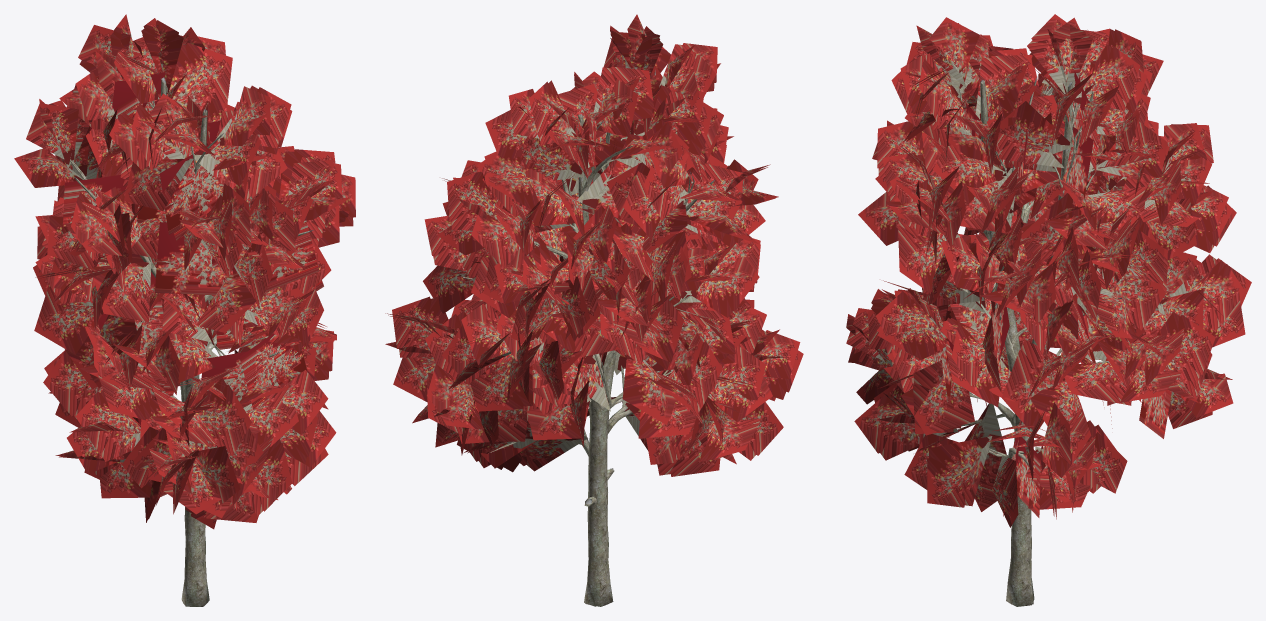
Rendered from tree-size-2-7.glb.
3 views of the same model, side by side, from view 1: azimuth 30°, elevation 25°; view 2: azimuth 150°, elevation 25°; view 3: azimuth 270°, elevation 25° (orthographic).
Parts seen in each view (by area): view 1: Red_Maple_Desktop_Young_Fall_LOD0; view 2: Red_Maple_Desktop_Young_Fall_LOD0; view 3: Red_Maple_Desktop_Young_Fall_LOD0.
Part boxes in pixels (bbox=[...]): Red_Maple_Desktop_Young_Fall_LOD0: bbox=[14, 14, 355, 606]; Red_Maple_Desktop_Young_Fall_LOD0: bbox=[385, 14, 803, 606]; Red_Maple_Desktop_Young_Fall_LOD0: bbox=[846, 14, 1251, 606].
Size of the model in its own units: 5.98 by 9.8 by 6.66.
2 materials, 2 textured.
